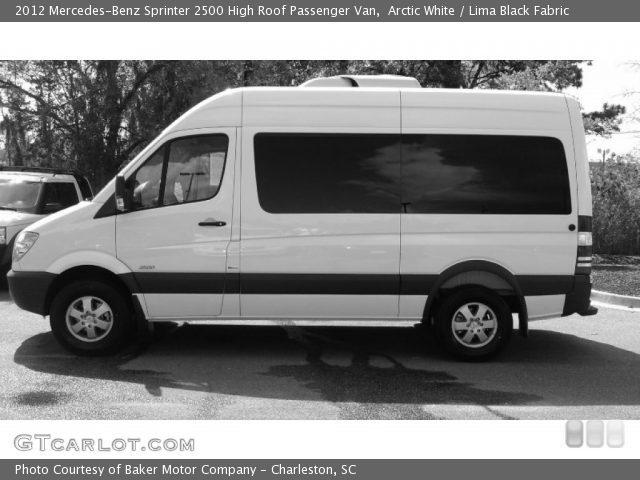car: (8, 74, 600, 357)
